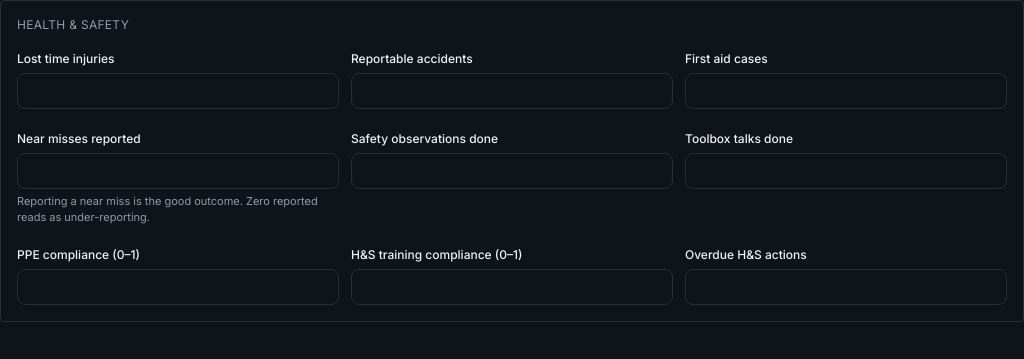
Test: HealthSafetyPillar › asks for the four percentages as the fractions the column actually holds
Later steps or results of the test are not shown.
Type "95" into the field labelled "PPE compliance (0–1)" at (178, 287), box left=17, top=269, right=339, bottom=305
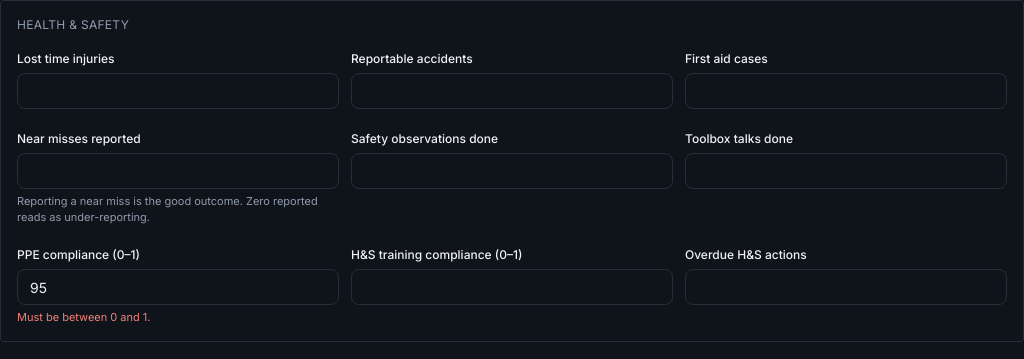
Result: the field labelled "PPE compliance (0–1)" is marked as invalid
Replace the text in the field labelled "PPE compliance (0–1)" with "0.95" at (178, 287), box left=17, top=269, right=339, bottom=305
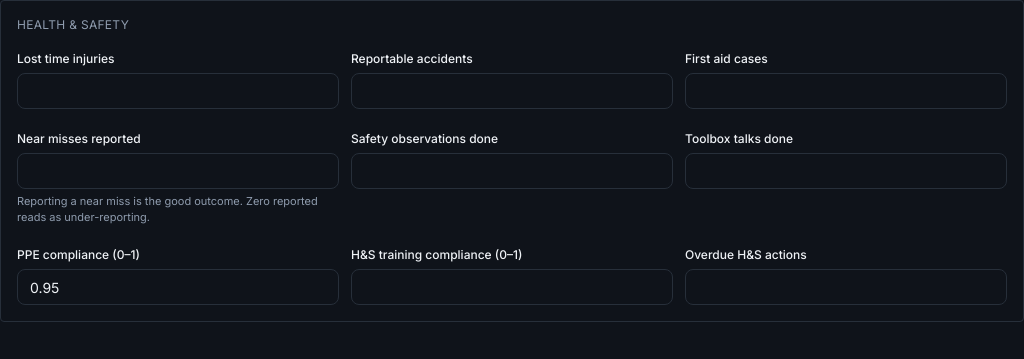
Result: the field labelled "PPE compliance (0–1)" does not have attribute aria-invalid at left=17, top=269, right=339, bottom=305
